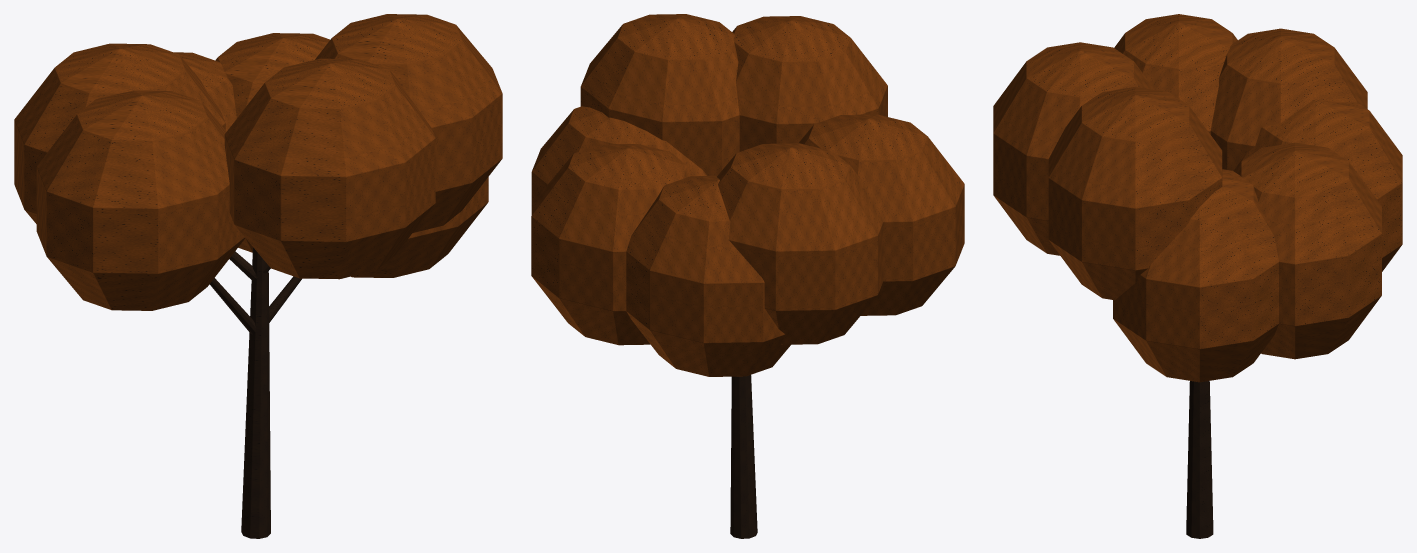
The model's file is PROP-1F0D6152AFB3_lod1.glb.
The picture shows the model from 3 angles, left to right: view 1: azimuth 30°, elevation 25°; view 2: azimuth 150°, elevation 25°; view 3: azimuth 270°, elevation 25°; orthographic projection. The views are drawn at different scales.
Parts seen in each view (by area): view 1: leaf_crown.084, trunk.076, branch.048; view 2: leaf_crown.084, trunk.076; view 3: leaf_crown.084, trunk.076.
Boxes of the visible parts, x1,y1,x2,y2 form: leaf_crown.084: (14, 14, 502, 310); trunk.076: (241, 247, 270, 538); branch.048: (209, 251, 301, 334); leaf_crown.084: (531, 14, 964, 376); trunk.076: (730, 375, 757, 538); leaf_crown.084: (993, 14, 1402, 382); trunk.076: (1186, 381, 1213, 538).
Size of the model in its own units: 8.16 by 9.03 by 6.87.
2 materials, 2 textured.
